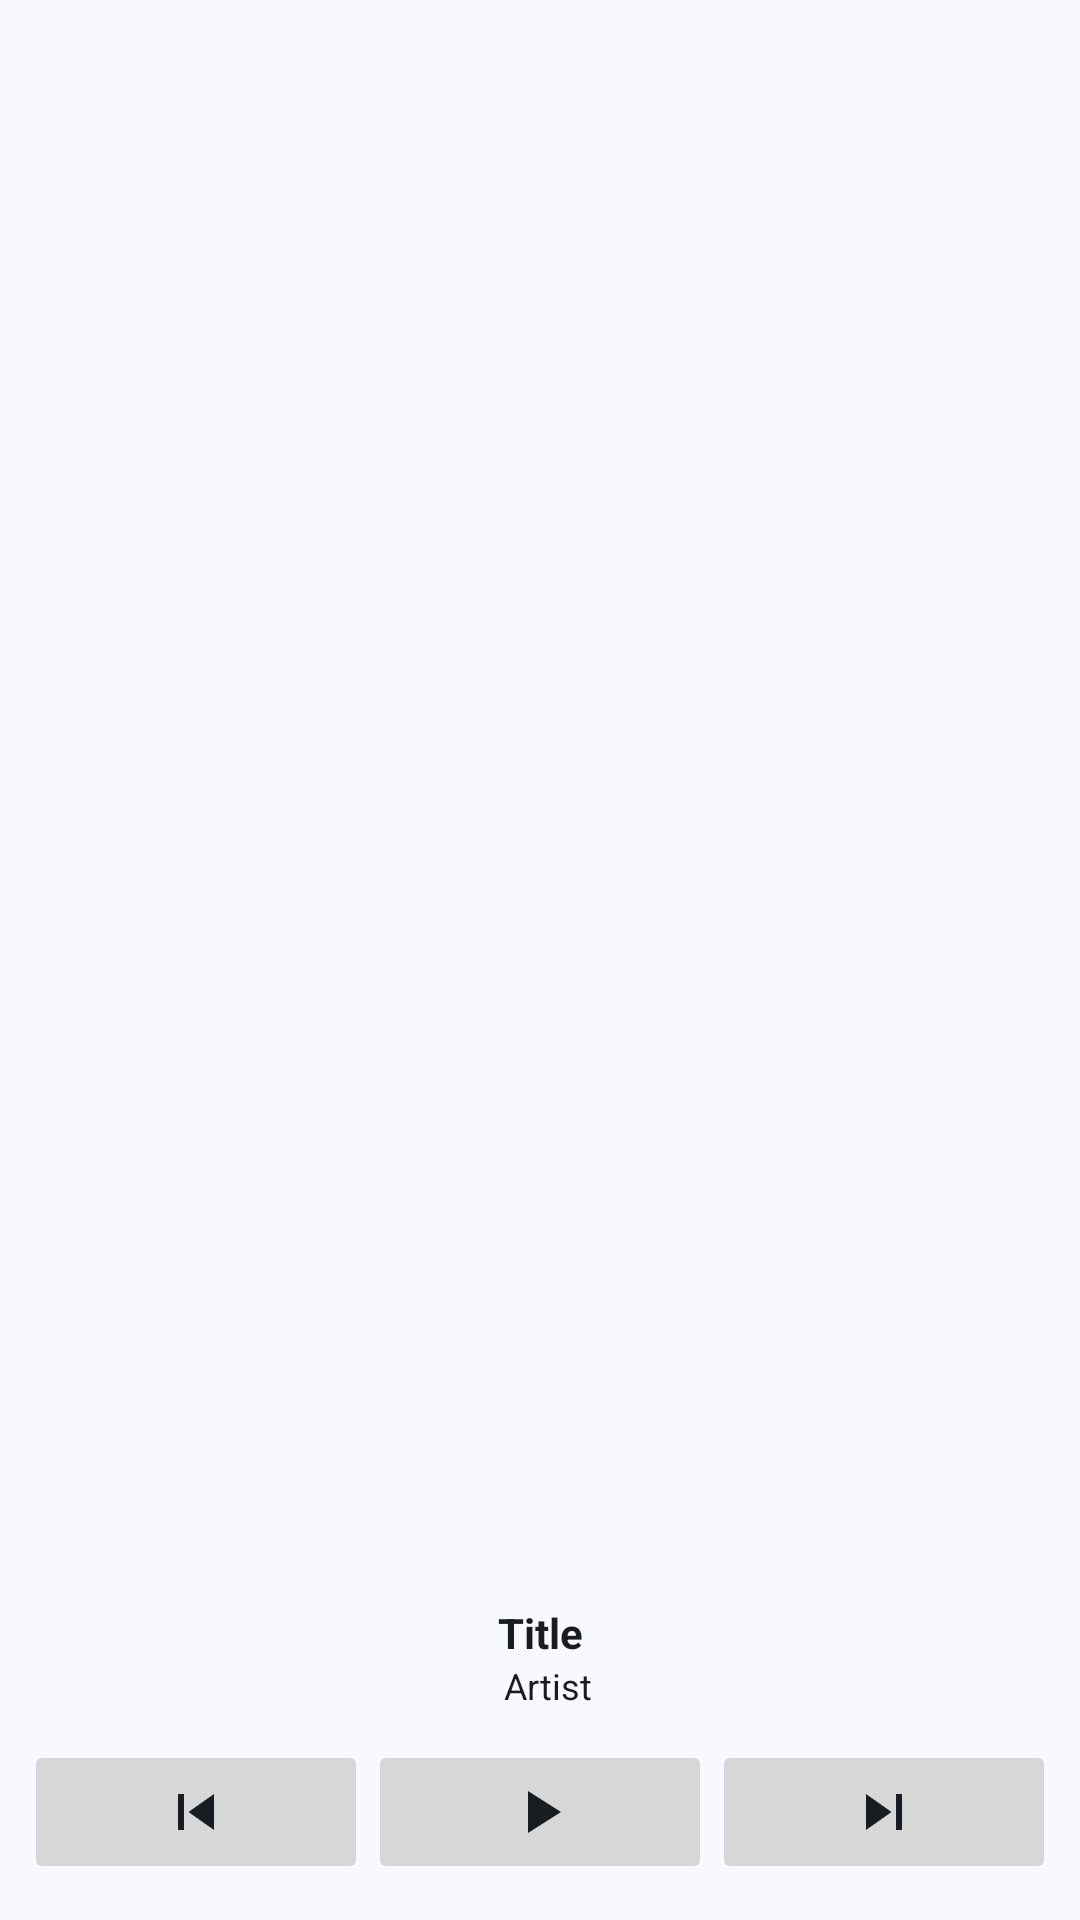

Icons on this 1080 x 1920 Android screen, each with its box as (x1, y1, x2, y2):
widget media backward: (36, 1758, 356, 1866)
widget media forward: (724, 1758, 1044, 1866)
widget media start: (380, 1758, 700, 1866)
